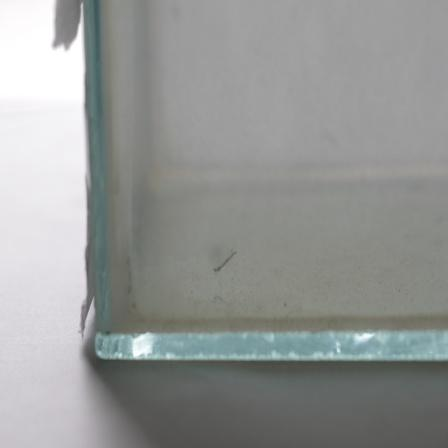Jentik-Nyamuk: (210, 248, 242, 276)
